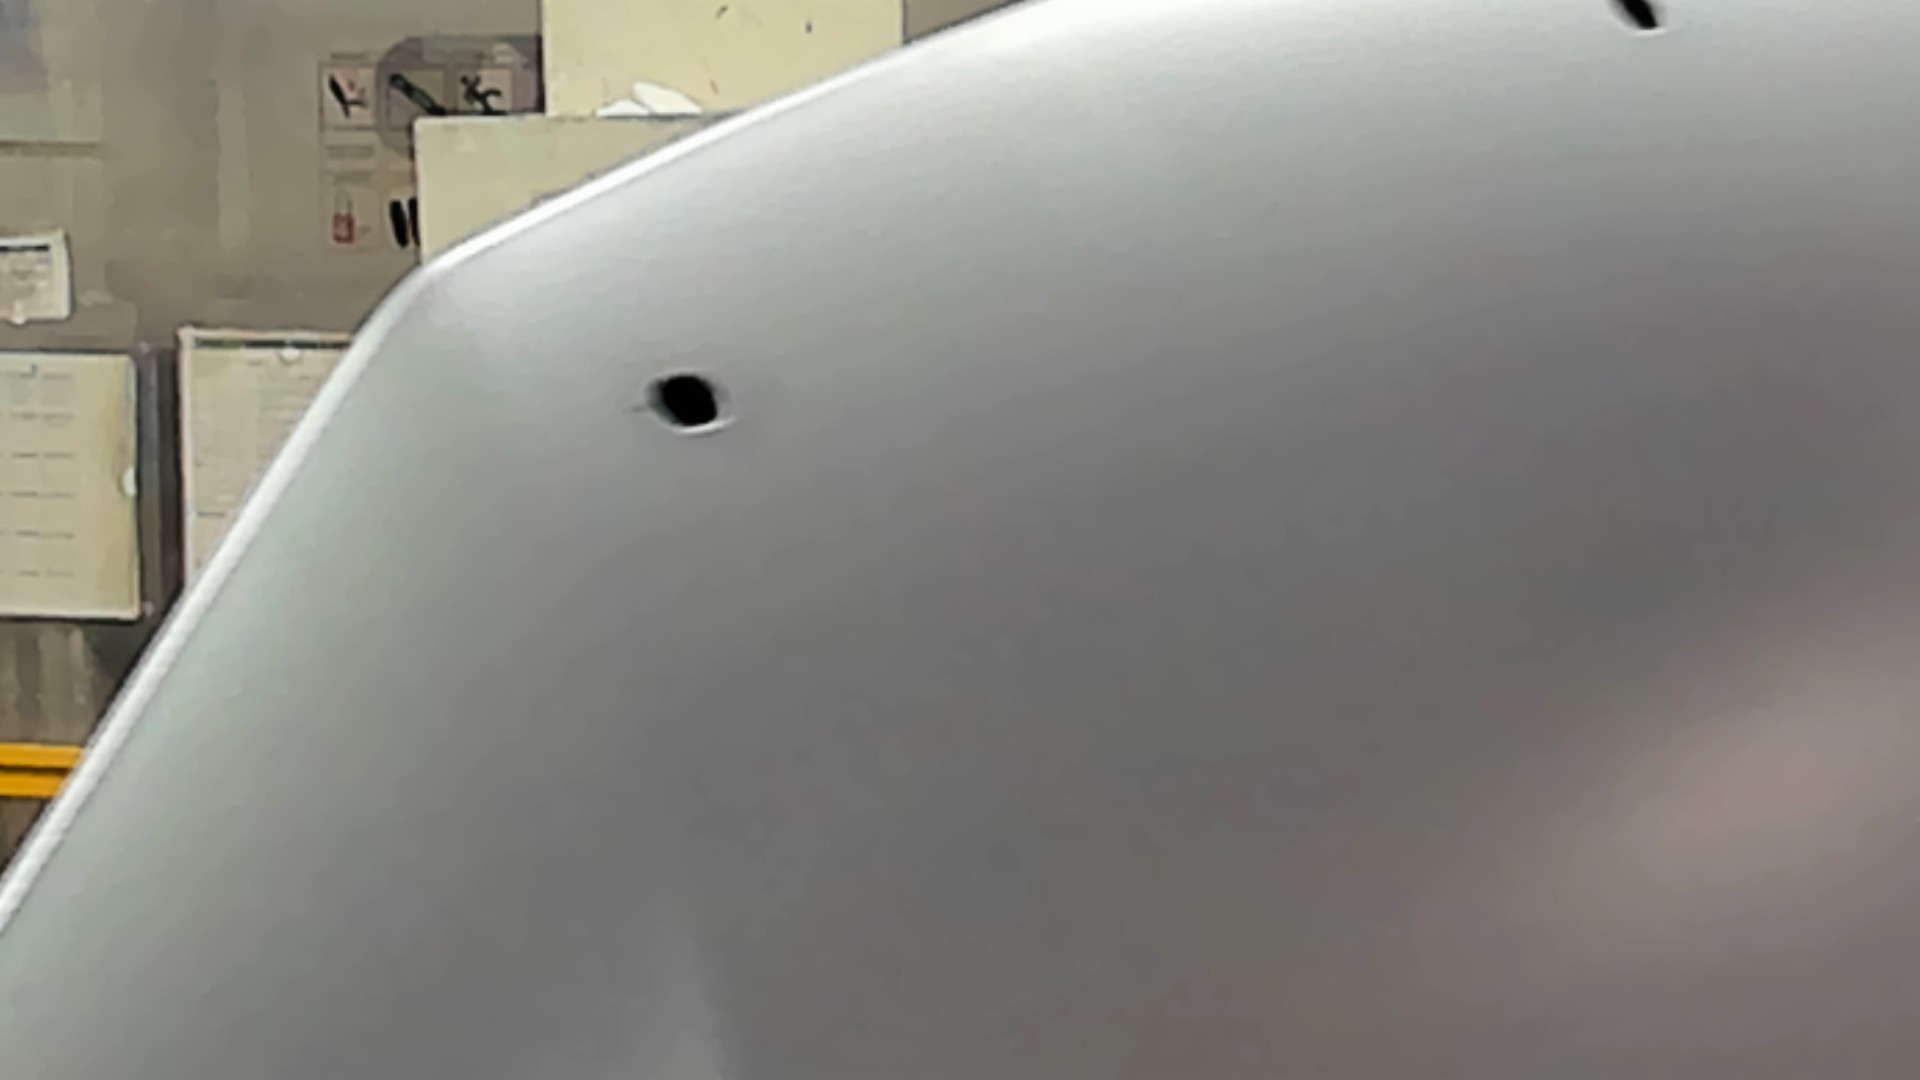amorfo: (630, 363, 735, 440), (1592, 1, 1683, 46)
capo: (831, 148, 1920, 1080)
